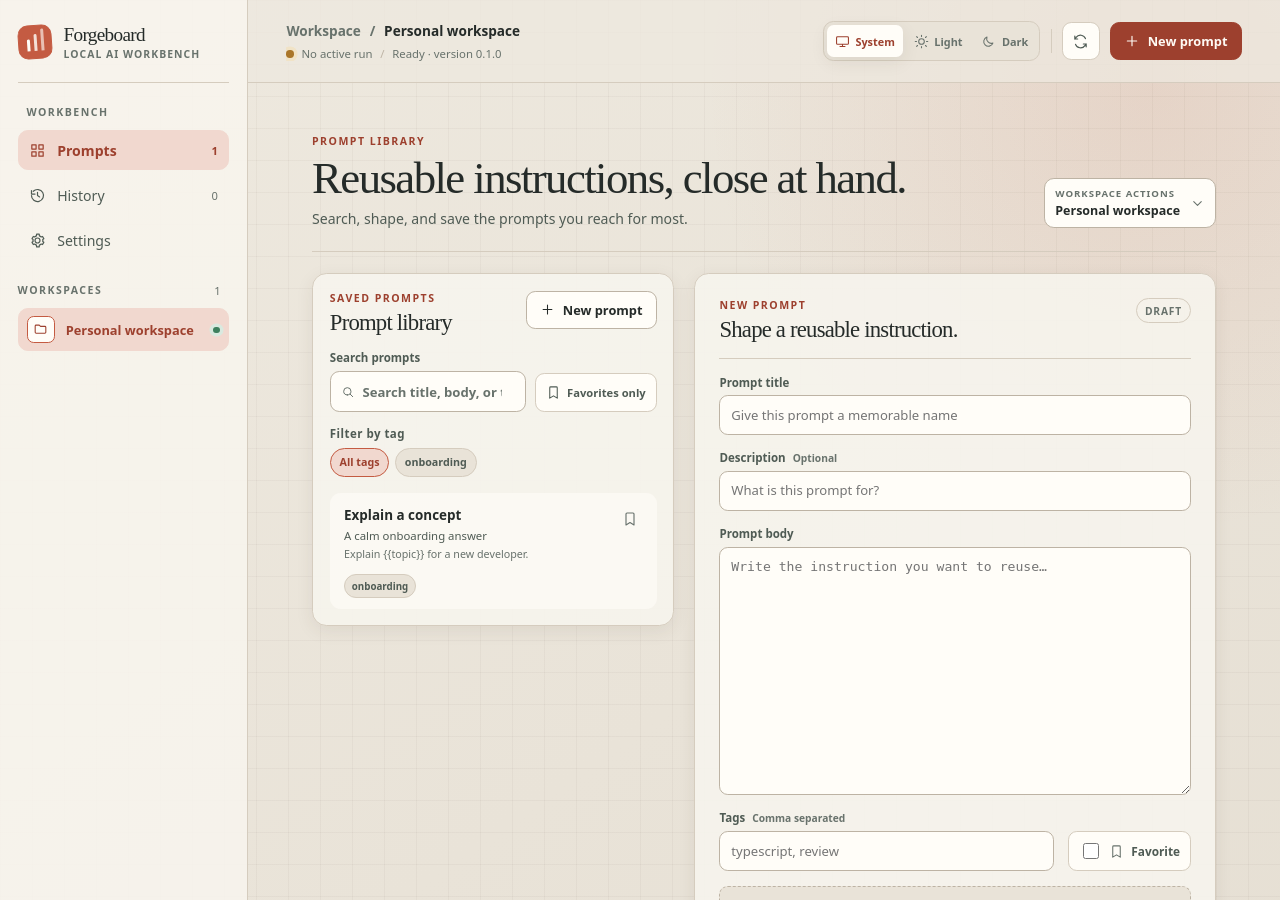
settings preferences › refreshes bridge state after a settings change from the settings view
The width and height of the screenshot is (1280, 900).
Expected: the text "Explain a concept" is shown, [344, 506, 461, 524]
Click the button "Settings" at (124, 240), box [18, 220, 229, 261]
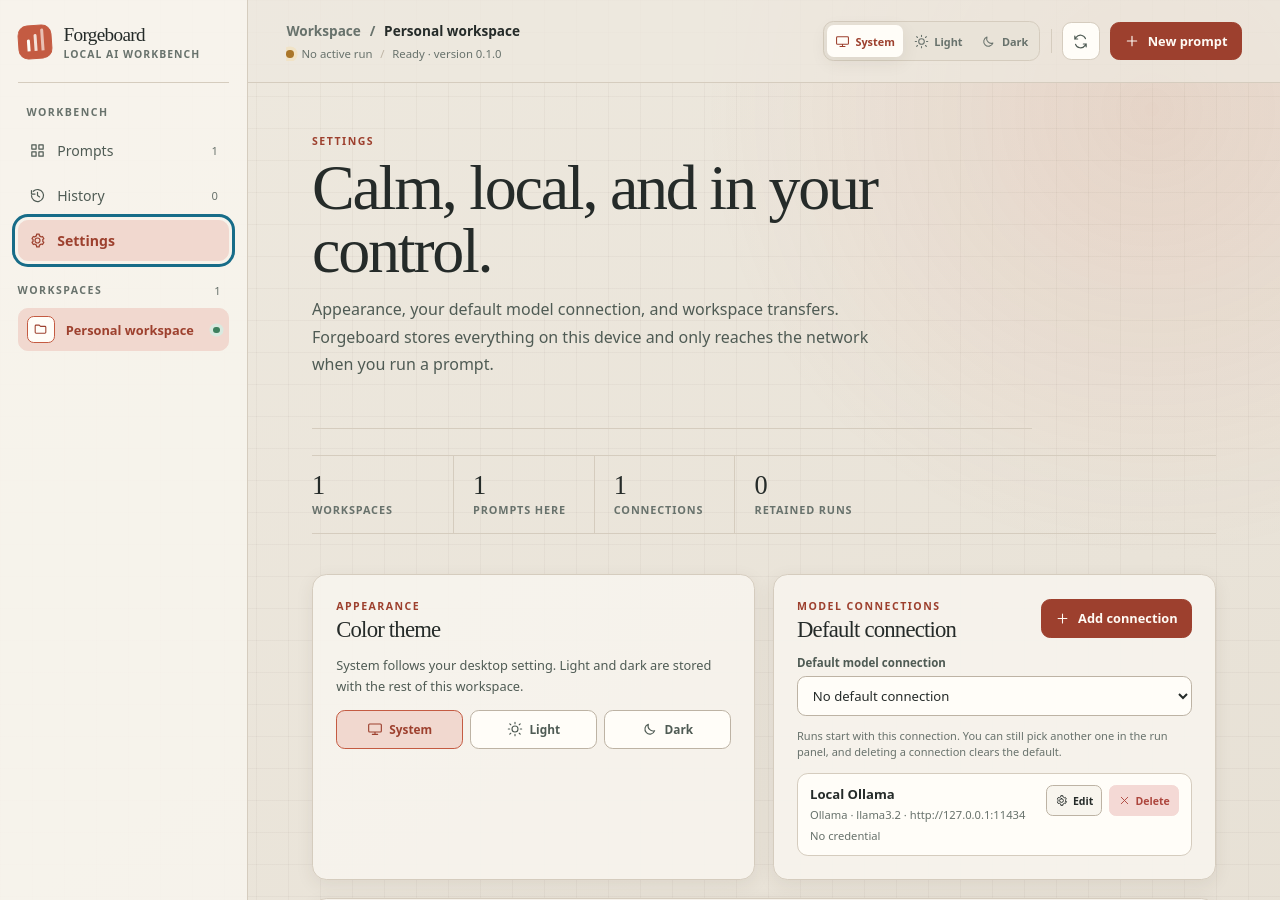
Expected: the heading "Calm, local, and in your control." is shown, [312, 157, 920, 283]
Select "Local Ollama · Ollama · llama3.2" in the dropdown labelled "Default model connection" at (994, 696), box [797, 676, 1192, 716]
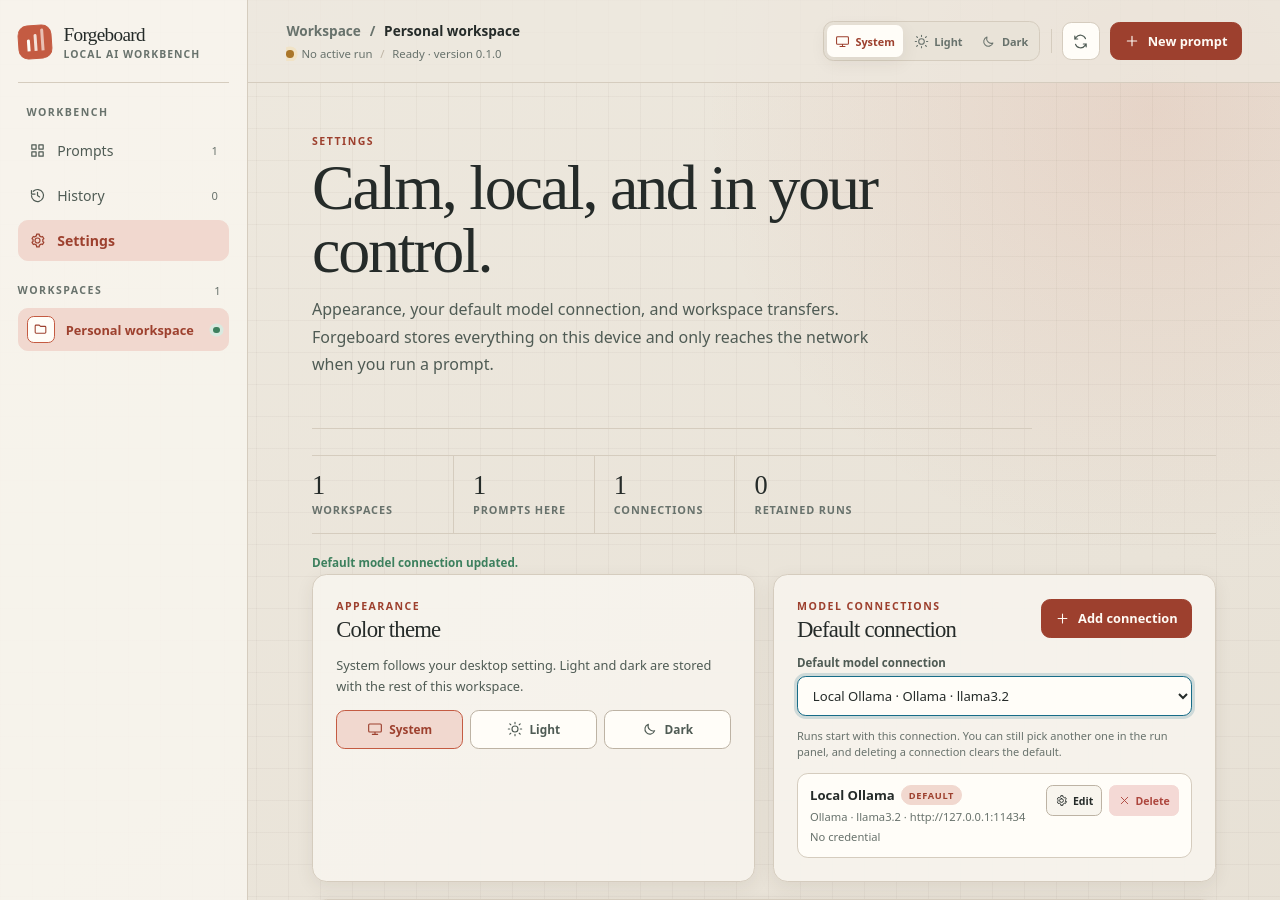
Expected: the text "Default model connection updated." is shown, [312, 555, 518, 570]
